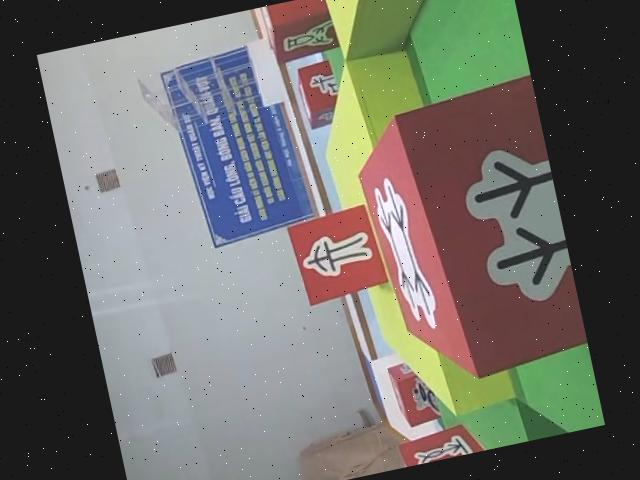R1: (382, 356, 447, 433)
R2 Fake: (283, 202, 389, 310)
R2 Real: (340, 71, 591, 398), (256, 0, 339, 69), (393, 418, 498, 469), (293, 60, 347, 130)
